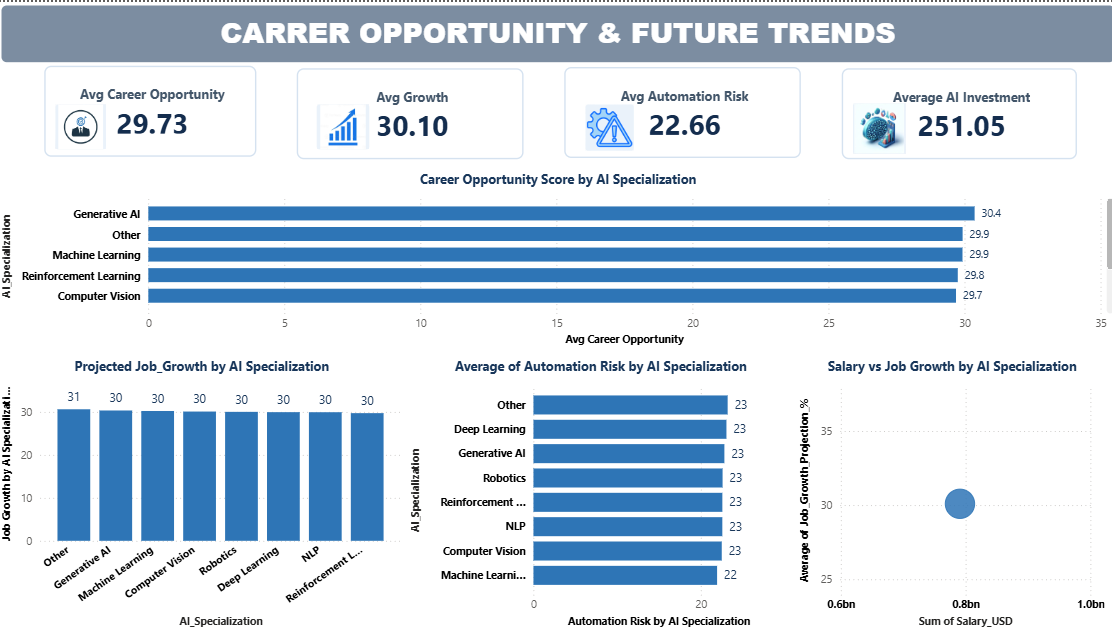

Layout of this report page (visuals, bound fields, positions):
{"tool":"powerbi","page":{"name":"Career Opportunity & Future Trends","canvas":[1280,720],"ordinal":3},"visuals":[{"type":"textbox","box":[0,0,1280,72.9],"z":0},{"type":"cardVisual","fields":{"Data":["AI_Jobs.Average Career Opportunity Score"]},"box":[52.6,73.4,242.1,103.9],"z":1000},{"type":"cardVisual","fields":{"Data":["AI_Jobs.Avg Growth"]},"box":[341.6,75.8,259.2,103.9],"z":2000},{"type":"cardVisual","fields":{"Data":["AI_Jobs.Average Automation Risk"]},"box":[647.7,74.6,270.2,103.9],"z":3000},{"type":"cardVisual","fields":{"Data":["AI_Jobs.Average AI Investment"]},"box":[964.8,75.8,269,103.9],"z":4000},{"type":"clusteredBarChart","title":"Career Opportunity Score by AI Specialization","fields":{"Category":["AI_Jobs.AI_Specialization"],"Y":["AI_Jobs.Average Career Opportunity Score"]},"box":[0,190.8,1280.3,206.7],"z":5000},{"type":"clusteredColumnChart","title":"Projected Job_Growth by AI Specialization","fields":{"Category":["AI_Jobs.AI_Specialization"],"Y":["Avg(AI_Jobs.Job_Growth_Projection_%)"]},"box":[0,406,465.9,314.3],"z":6000},{"type":"clusteredBarChart","title":"Average of Automation Risk by AI Specialization","fields":{"Category":["AI_Jobs.AI_Specialization"],"Y":["Avg(AI_Jobs.Automation_Risk_%)"]},"box":[467.1,406,443.9,314.3],"z":7000},{"type":"scatterChart","title":"Salary vs Job Growth by AI Specialization","fields":{"X":["Sum(AI_Jobs.Salary_USD)"],"Y":["Avg(AI_Jobs.Job_Growth_Projection_%)"],"Size":["Sum(AI_Jobs.Job_Openings)"]},"box":[911,406,358.3,314.3],"z":8000},{"type":"image","box":[66,117.4,57.5,51.4],"z":9000},{"type":"image","box":[364.4,117.4,59.9,51.4],"z":10000},{"type":"image","box":[671.3,117.4,55,52.6],"z":11000},{"type":"image","box":[977,116.2,59.9,57.5],"z":12000}]}

Visuals, with their boxes in screenshot pixels (x1, y1, x2, y2), scaled from the page's 1280x720 canvas onto the 1112x630 screenshot:
textbox: box=[0, 0, 1111, 64]
cardVisual - AI_Jobs.Average Career Opportunity Score: box=[46, 64, 256, 155]
cardVisual - AI_Jobs.Avg Growth: box=[297, 66, 522, 157]
cardVisual - AI_Jobs.Average Automation Risk: box=[563, 65, 797, 156]
cardVisual - AI_Jobs.Average AI Investment: box=[838, 66, 1072, 157]
"Career Opportunity Score by AI Specialization" clusteredBarChart: box=[0, 167, 1111, 348]
"Projected Job_Growth by AI Specialization" clusteredColumnChart: box=[0, 355, 405, 629]
"Average of Automation Risk by AI Specialization" clusteredBarChart: box=[406, 355, 791, 629]
"Salary vs Job Growth by AI Specialization" scatterChart: box=[791, 355, 1103, 629]
image: box=[57, 103, 107, 148]
image: box=[317, 103, 369, 148]
image: box=[583, 103, 631, 149]
image: box=[849, 102, 901, 152]
